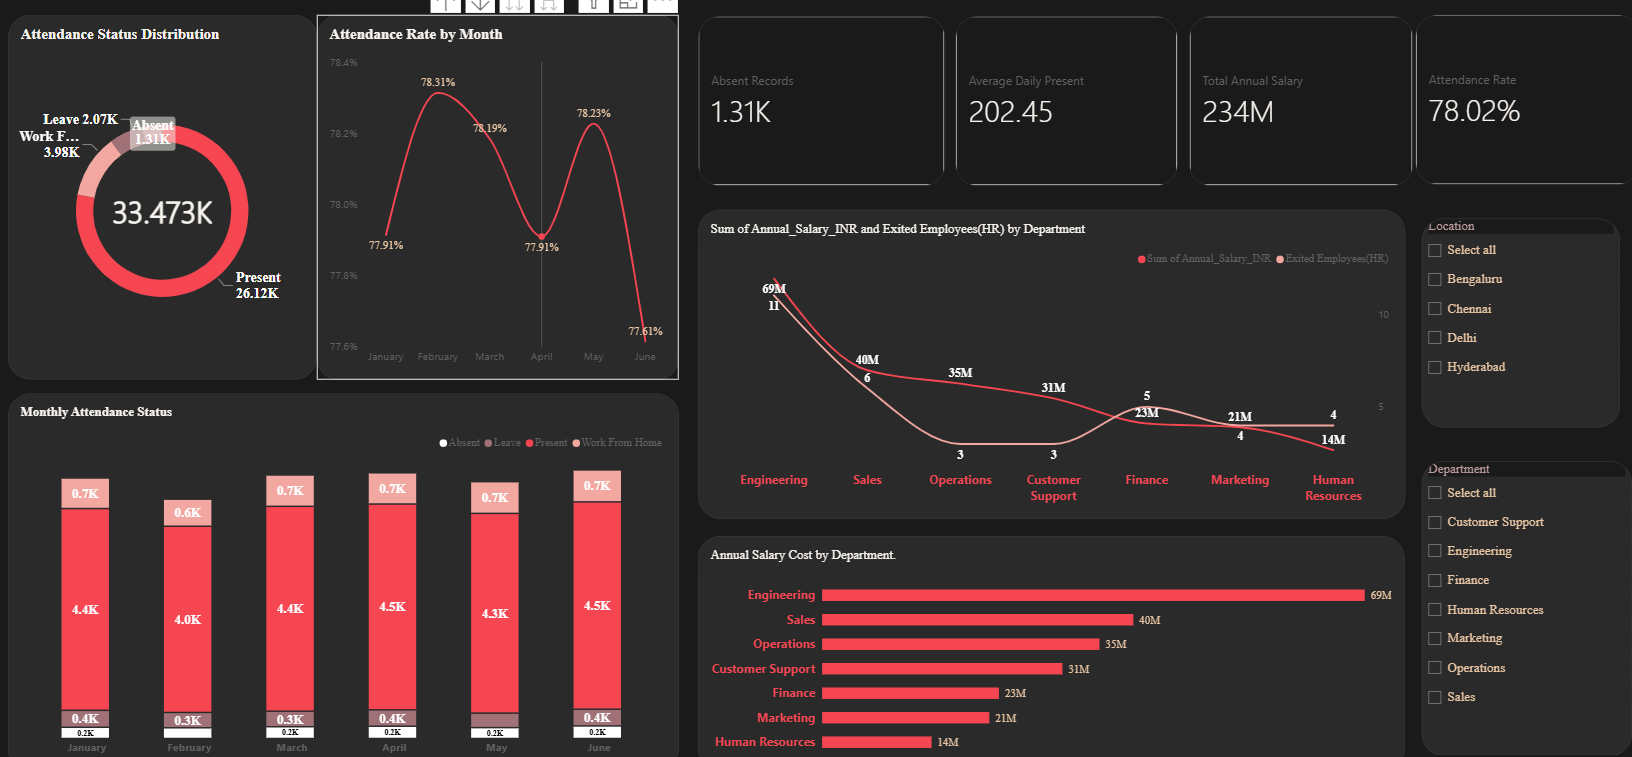

The dashboard page shown, as its layout file describes it:
{"tool":"powerbi","page":{"name":"Attendance Analysis","canvas":[2200,1080],"ordinal":1},"visuals":[{"type":"donutChart","title":"Attendance Status Distribution","fields":{"Category":["Attendance.Attendance_Status"],"Y":["CountNonNull(Attendance.Employee_ID)"]},"box":[20,51.8,412.4,487.6],"z":0},{"type":"lineStackedColumnComboChart","title":"Monthly Attendance Status","fields":{"Category":["Attendance.Attendance_Date.Variation.Date Hierarchy.Month"],"Series":["Attendance.Attendance_Status"],"Y":["CountNonNull(Attendance.Employee_ID)"]},"box":[20,557.7,895.8,504.9],"z":1000},{"type":"cardVisual","fields":{"Data":["Attendance.Absent Records"]},"box":[941.1,53.2,330.2,227.5],"z":2000},{"type":"cardVisual","fields":{"Data":["Attendance.Average Daily Present"]},"box":[1286,53.2,297.2,227.5],"z":3000},{"type":"clusteredBarChart","title":"Annual Salary Cost by Department.","fields":{"Category":["Employees.Department"],"Y":["Sum(Employees.Annual_Salary_INR)"]},"box":[942,747.4,943.8,314],"z":4000},{"type":"cardVisual","fields":{"Data":["Attendance.Total Annual Salary"]},"box":[1597.9,53.2,299,227.5],"z":5000},{"type":"lineChart","fields":{"Category":["Employees.Department"],"Y":["Sum(Employees.Annual_Salary_INR)"],"Y2":["Attendance.Exited Employees(HR)"]},"box":[941.1,311.9,944.8,412.8],"z":6000},{"type":"slicer","fields":{"Values":["Employees.Department"]},"box":[1909.2,647.9,280.5,394.5],"z":7000},{"type":"slicer","fields":{"Values":["Employees.Location"]},"box":[1909.2,323.9,264.8,279.3],"z":8000},{"type":"cardVisual","fields":{"Data":["Attendance.Attendance Rate"]},"box":[1900.1,52.5,299,227.5],"z":9000},{"type":"lineChart","fields":{"Category":["Attendance.Attendance_Date.Variation.Date Hierarchy.Year","Attendance.Attendance_Date.Variation.Date Hierarchy.Month"],"Y":["Attendance.Attendance Rate"]},"box":[432,52,484,488],"z":9001}]}

Visuals, with their boxes on the page's 2200x1080 design canvas (x1, y1, x2, y2). These are canvas units, not pixel positions in the 1632x757 screenshot, which may show the page scaled, cropped or inside an application window:
"Attendance Status Distribution" donutChart: [20,52,432,539]
"Monthly Attendance Status" lineStackedColumnComboChart: [20,558,916,1063]
cardVisual - Attendance.Absent Records: [941,53,1271,281]
cardVisual - Attendance.Average Daily Present: [1286,53,1583,281]
"Annual Salary Cost by Department." clusteredBarChart: [942,747,1886,1061]
cardVisual - Attendance.Total Annual Salary: [1598,53,1897,281]
lineChart - Employees.Department x Sum(Employees.Annual_Salary_INR): [941,312,1886,725]
slicer - Employees.Department: [1909,648,2190,1042]
slicer - Employees.Location: [1909,324,2174,603]
cardVisual - Attendance.Attendance Rate: [1900,52,2199,280]
lineChart - Attendance.Attendance_Date.Variation.Date Hierarchy.Year x Attendance.Attendance_Date.Variation.Date Hierarchy.Month: [432,52,916,540]
